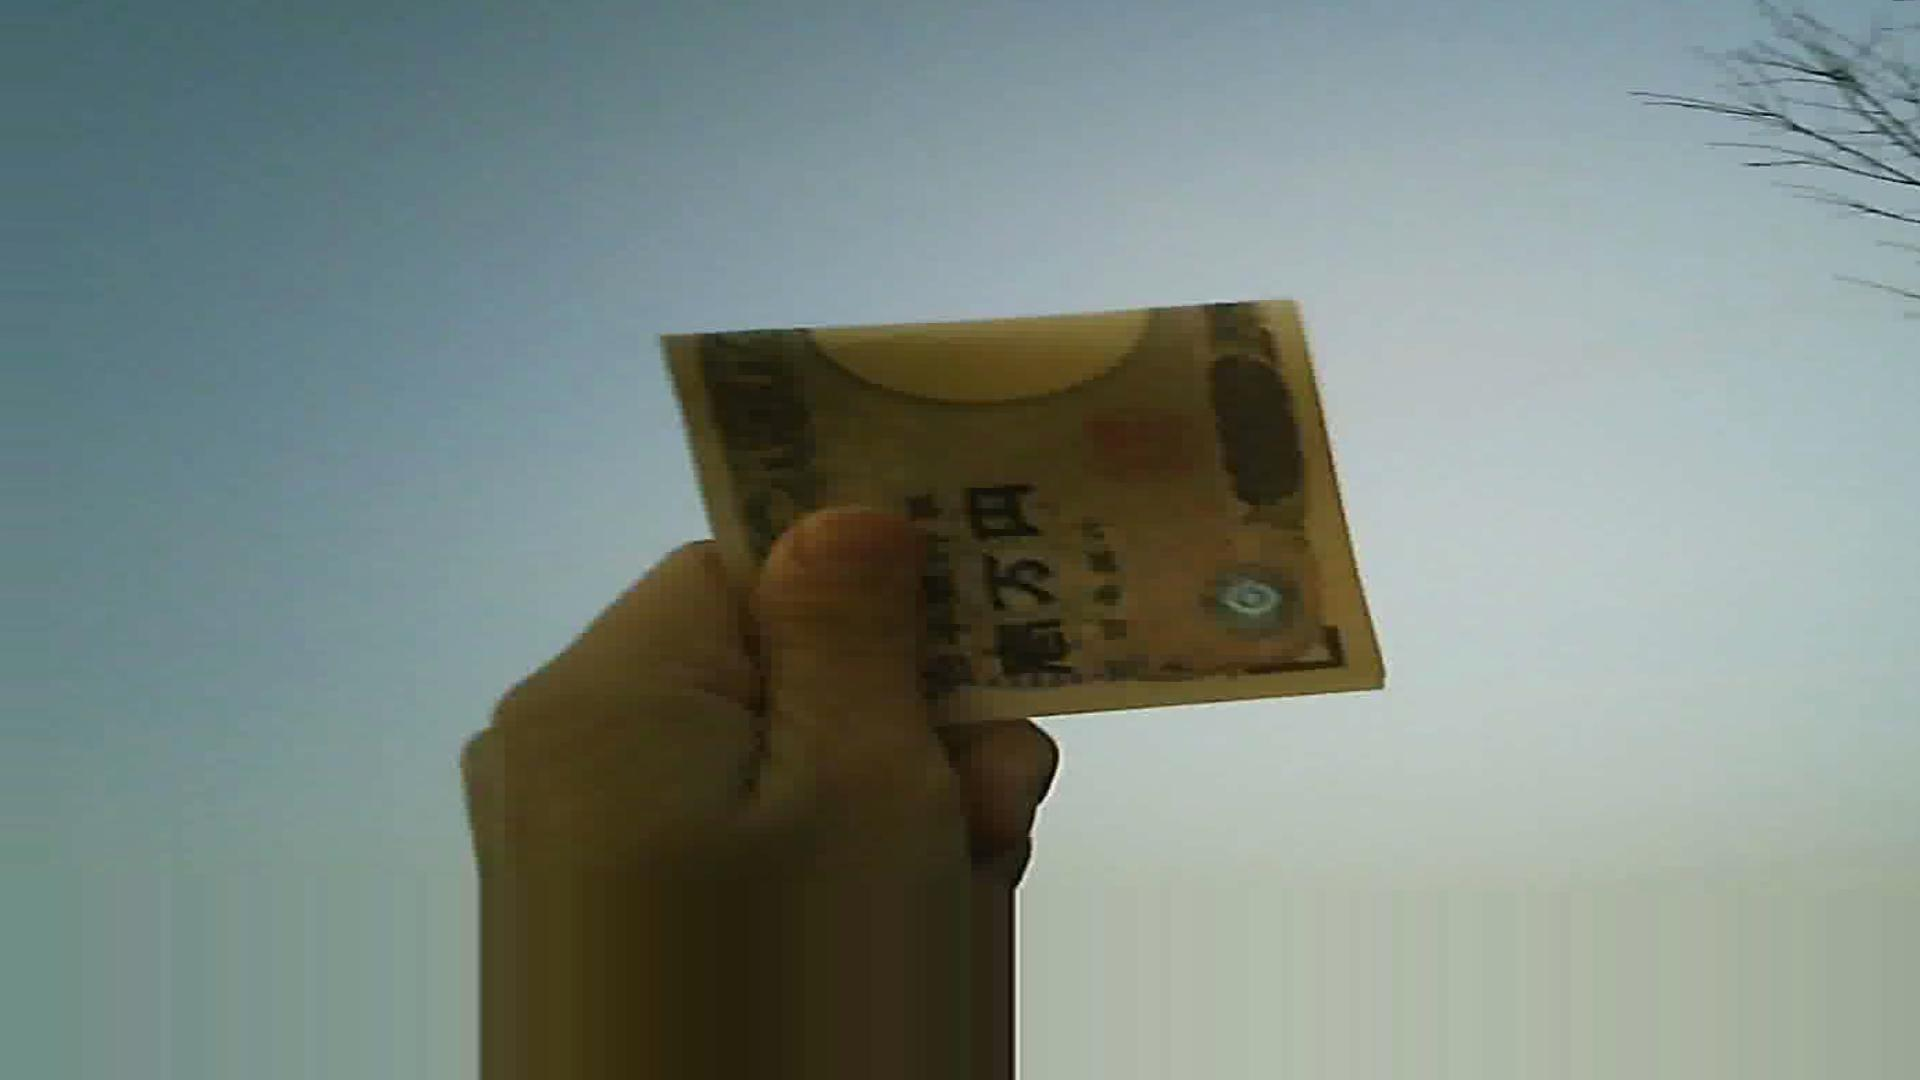10,000 Yen: (651, 273, 1411, 742)
